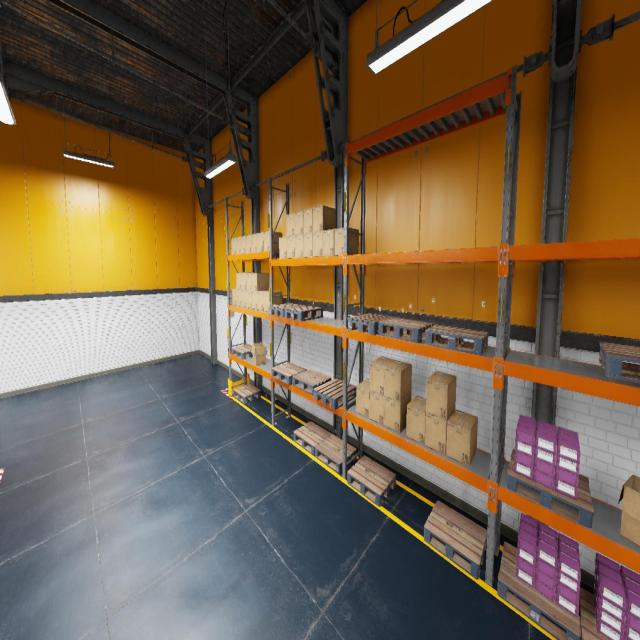box: (446, 409, 478, 466), (618, 475, 640, 546), (426, 371, 456, 420), (424, 410, 454, 455), (384, 360, 412, 402), (384, 394, 411, 433), (406, 396, 426, 445), (370, 357, 395, 396), (334, 228, 358, 255), (312, 205, 336, 232), (356, 379, 370, 418), (370, 390, 384, 426), (263, 291, 282, 312), (263, 231, 282, 251), (251, 343, 267, 365), (252, 273, 270, 291), (323, 229, 334, 256), (312, 231, 322, 257), (257, 290, 269, 310), (294, 210, 303, 235), (304, 232, 312, 257), (304, 208, 312, 233), (295, 234, 303, 258), (286, 213, 294, 236), (287, 236, 294, 258), (279, 236, 286, 258), (257, 232, 263, 252), (246, 290, 252, 308), (251, 234, 257, 252), (240, 236, 246, 253), (252, 291, 257, 309), (246, 272, 251, 290), (241, 272, 246, 290), (246, 235, 251, 253), (232, 289, 237, 305), (236, 273, 241, 289), (231, 238, 236, 254), (242, 290, 246, 307), (236, 237, 240, 254), (237, 290, 241, 306)
pallets: (497, 542, 580, 640), (506, 448, 594, 528), (424, 500, 487, 580), (347, 456, 396, 506), (425, 325, 488, 355), (598, 342, 640, 383), (315, 434, 356, 474), (578, 587, 608, 639), (378, 318, 434, 342), (314, 378, 356, 409), (293, 421, 331, 455), (348, 313, 395, 335), (292, 369, 331, 395), (271, 362, 307, 385), (284, 306, 323, 320), (233, 384, 260, 404), (269, 303, 305, 317), (232, 344, 252, 359)
